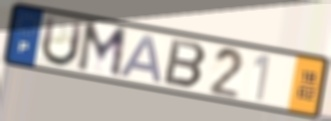1: (253, 53, 272, 103)
2: (206, 46, 247, 101)
A: (117, 32, 165, 86)
B: (162, 37, 209, 91)
M: (74, 20, 130, 82)
U: (39, 14, 86, 69)
